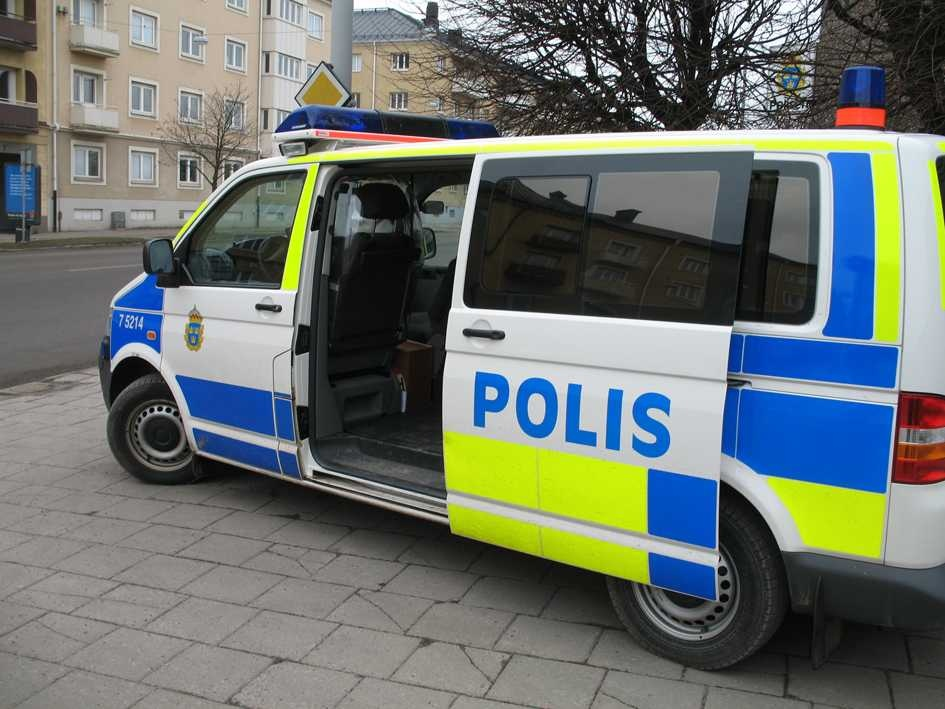Police Van: (92, 75, 945, 683)
